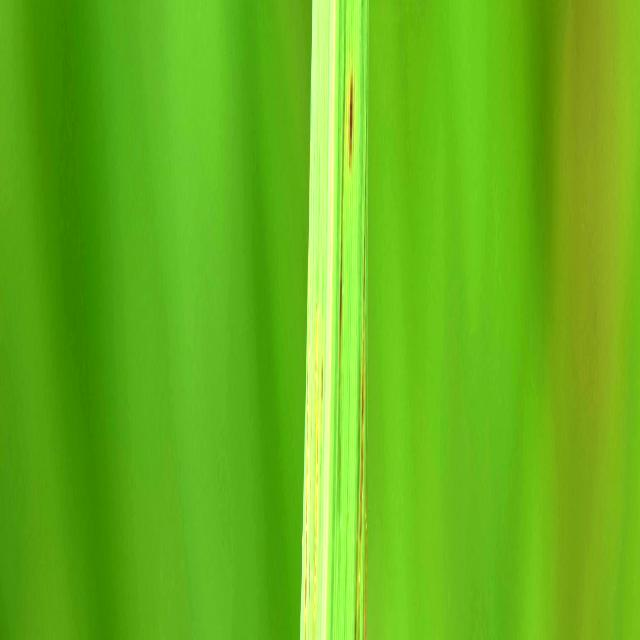BLS: (358, 114, 366, 638), (337, 35, 346, 493), (304, 128, 312, 638), (313, 267, 318, 638), (319, 256, 324, 537), (355, 367, 359, 638), (308, 389, 312, 638), (363, 446, 368, 638)
